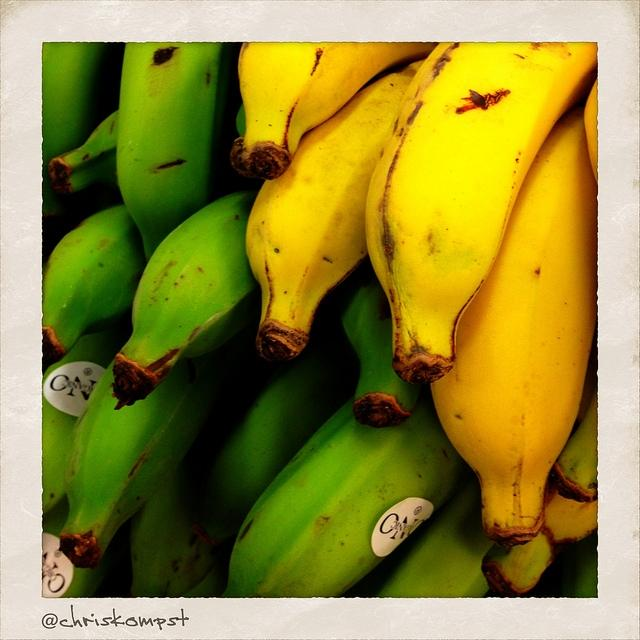banana: (365, 40, 598, 387), (129, 286, 361, 598), (430, 120, 600, 544), (246, 57, 424, 361), (225, 392, 462, 597), (57, 342, 248, 570), (110, 186, 262, 410), (230, 40, 439, 179), (118, 42, 222, 264), (42, 321, 134, 514), (41, 204, 147, 358), (372, 472, 497, 598), (41, 42, 126, 218), (342, 258, 426, 431), (481, 484, 598, 599), (42, 493, 110, 598), (49, 109, 120, 197), (554, 387, 598, 500), (558, 530, 598, 598), (230, 103, 257, 178), (584, 78, 598, 182)
